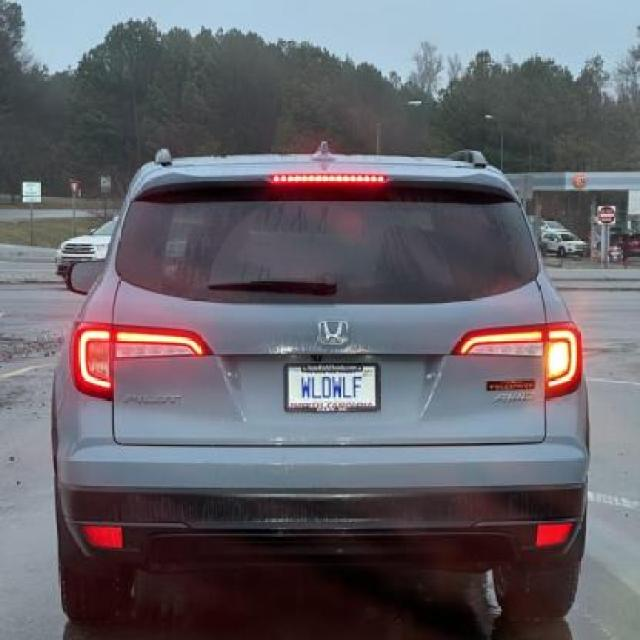licenseplate: (283, 362, 380, 413)
